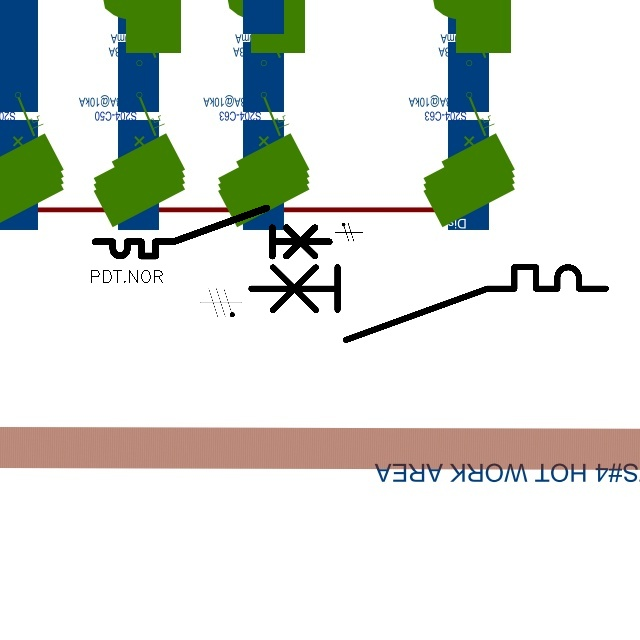interruptor_termomagnetico: (242, 258, 615, 349), (89, 202, 335, 262)
